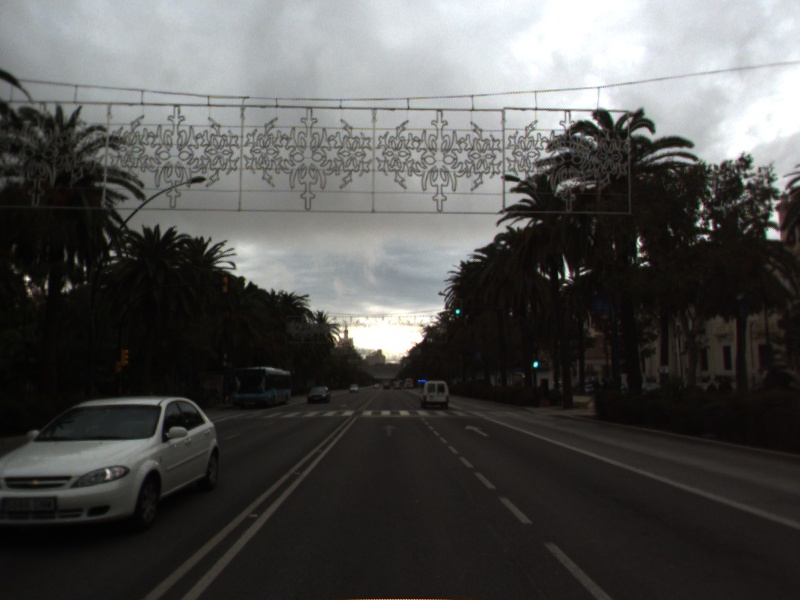STRAIGHT: (462, 423, 491, 439), (379, 422, 401, 438)
